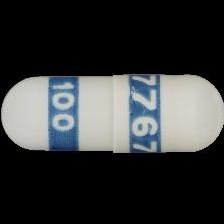53217-156: (0, 0, 224, 224)
